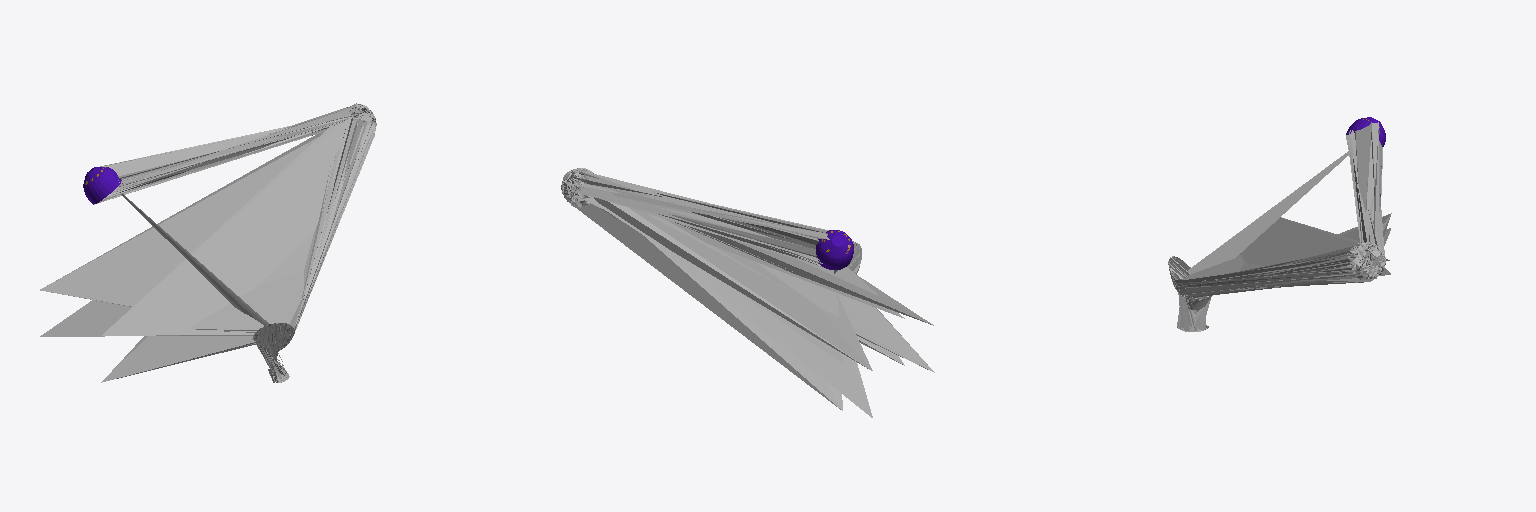
File: Chris_Scene.obj
The picture shows the model from 3 angles: view 1: azimuth 30°, elevation 25°; view 2: azimuth 150°, elevation 25°; view 3: azimuth 270°, elevation 25°; orthographic projection.
Parts seen in each view (by area): view 1: Chair_02, Light_01; view 2: Chair_02, Light_01; view 3: Chair_02.
Part boxes in pixels (left/top/right/bottom): Chair_02: left=40, top=103, right=376, bottom=382; Light_01: left=83, top=167, right=121, bottom=204; Chair_02: left=561, top=168, right=934, bottom=417; Light_01: left=816, top=230, right=853, bottom=269; Chair_02: left=1168, top=122, right=1391, bottom=331.
Size of the model in its own units: 220 by 108 by 132.